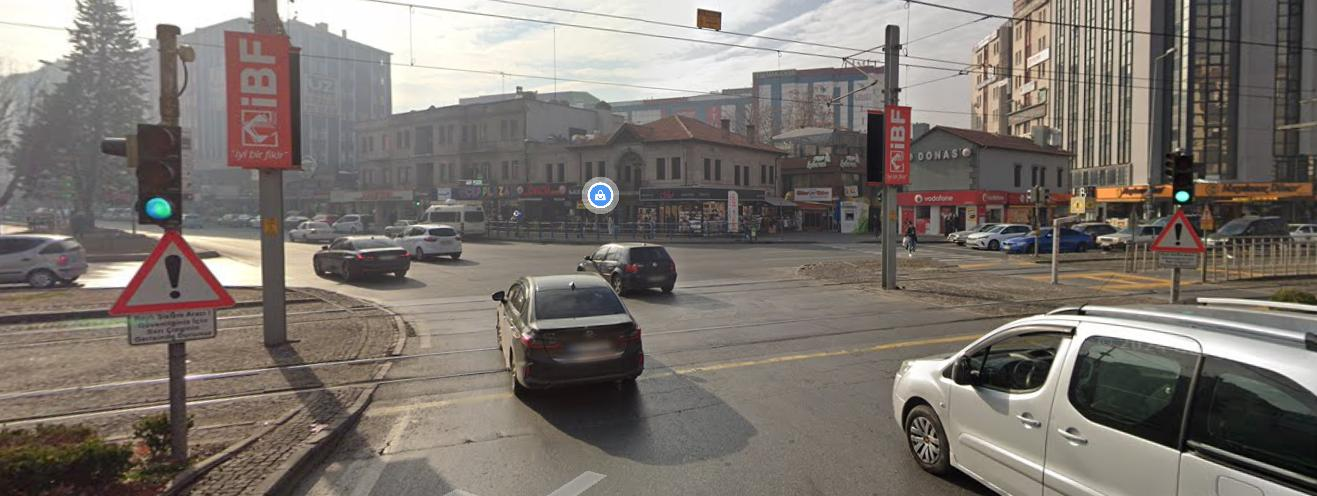greenlight: (133, 126, 182, 228), (1176, 148, 1196, 211)
